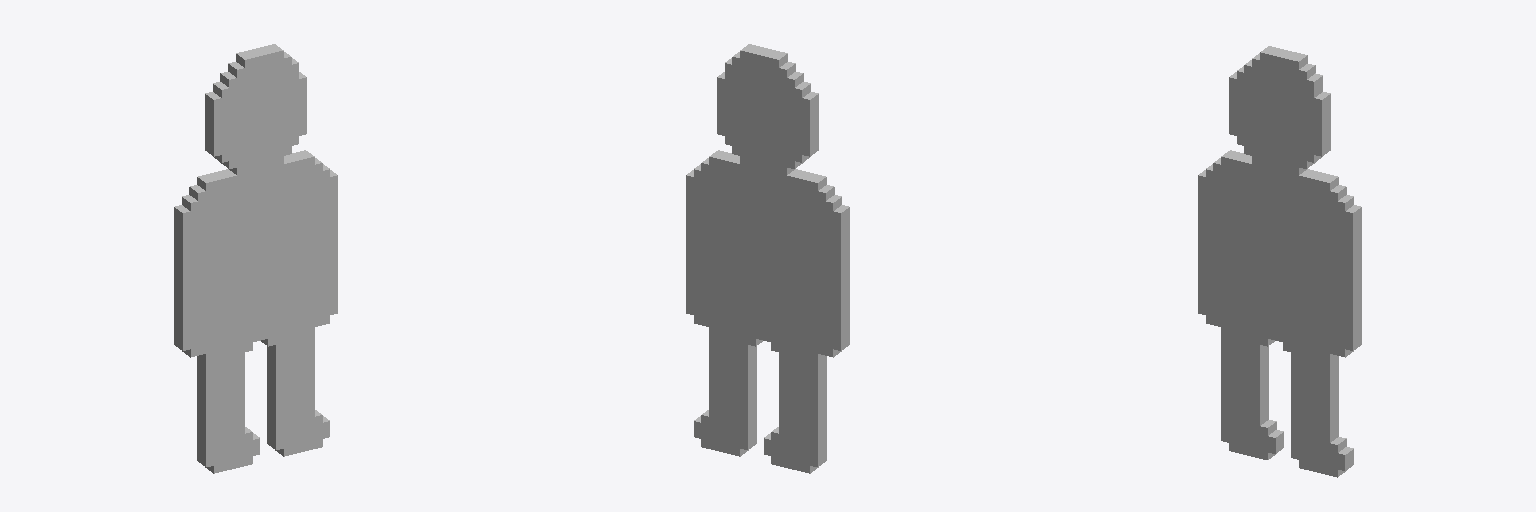
The model's file is char_1.obj.
3 renders of one model, left to right at view 1: azimuth 30°, elevation 25°; view 2: azimuth 150°, elevation 25°; view 3: azimuth 330°, elevation 25°, orthographic.
Visible parts, largest first — view 1: object 1; view 2: object 1; view 3: object 1.
Boxes of the visible parts, box(x1,y1,x2,y2) form: object 1: box(174, 44, 337, 473); object 1: box(686, 44, 849, 473); object 1: box(1198, 46, 1361, 477).
Bounding box in the file's own units: 2 × 5 × 0.2.